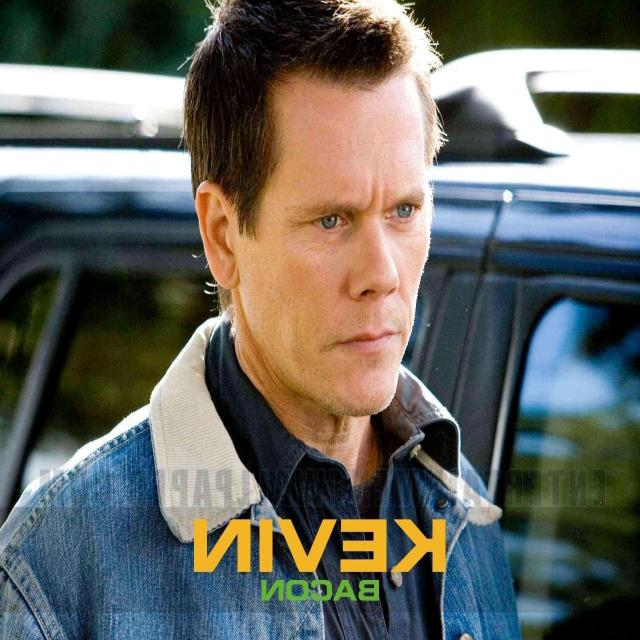no-earmuff: (194, 180, 242, 291)
